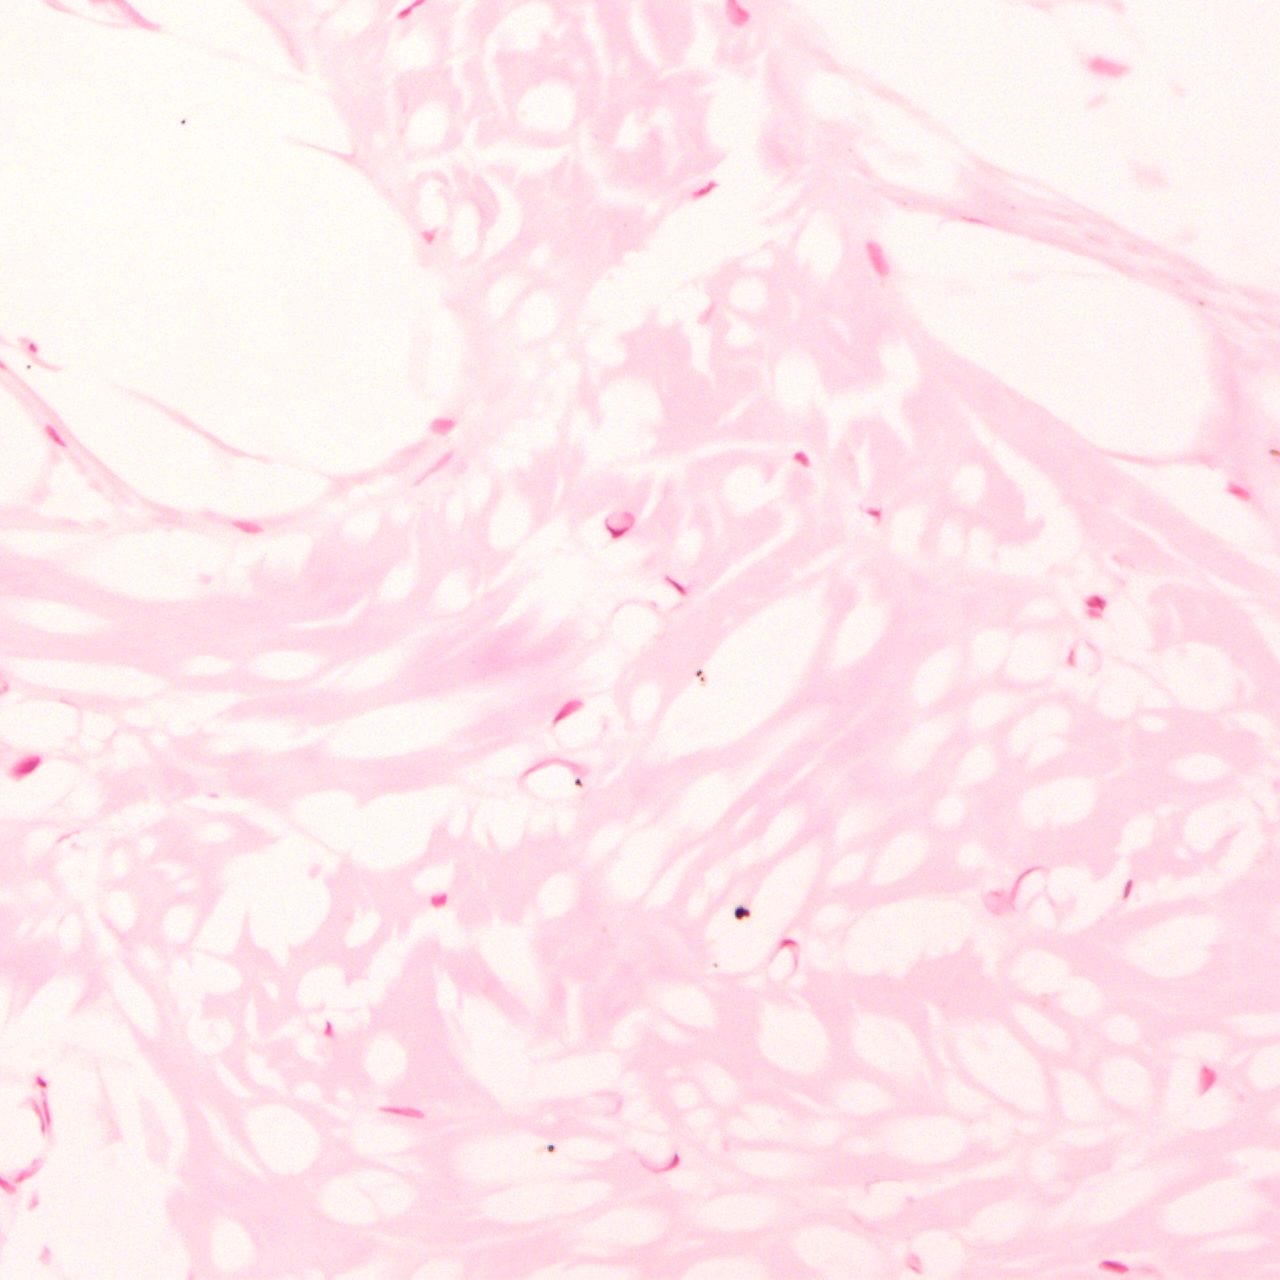dust: (733, 905, 751, 921), (693, 667, 704, 678), (546, 1143, 554, 1152), (574, 778, 583, 787), (179, 118, 186, 125), (699, 676, 704, 683), (712, 962, 717, 967), (25, 365, 30, 368)
nucleus-AC: (595, 505, 640, 546), (11, 1149, 52, 1187), (544, 693, 587, 729), (860, 233, 892, 282), (5, 749, 45, 785), (638, 1150, 681, 1175), (1221, 477, 1252, 505), (1081, 591, 1108, 620), (689, 176, 719, 202), (375, 1105, 425, 1119), (41, 424, 66, 451), (30, 1098, 48, 1133), (662, 572, 687, 595), (791, 445, 813, 471), (427, 417, 457, 434), (231, 519, 264, 535), (1097, 1258, 1129, 1273), (1201, 1065, 1217, 1096), (425, 891, 450, 908), (41, 1095, 53, 1124), (1121, 878, 1135, 901), (863, 506, 881, 523), (418, 229, 437, 244), (33, 1074, 48, 1091), (778, 937, 799, 946), (1067, 645, 1075, 663), (324, 1021, 332, 1036), (28, 342, 38, 352)
